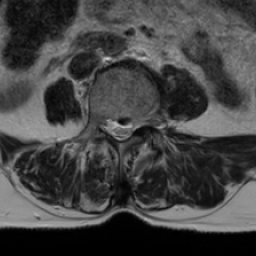CCS_stenosis: (117, 113, 125, 149)
LFS_normal: (134, 106, 144, 137)
LLS_normal: (125, 111, 134, 146)
RFS_normal: (98, 107, 107, 140)
RLS_normal: (107, 109, 117, 148)
